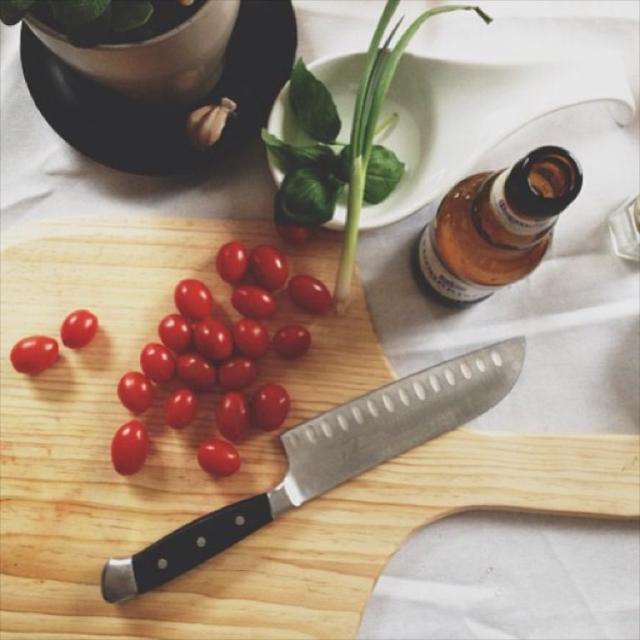Knife: (101, 338, 525, 602)
